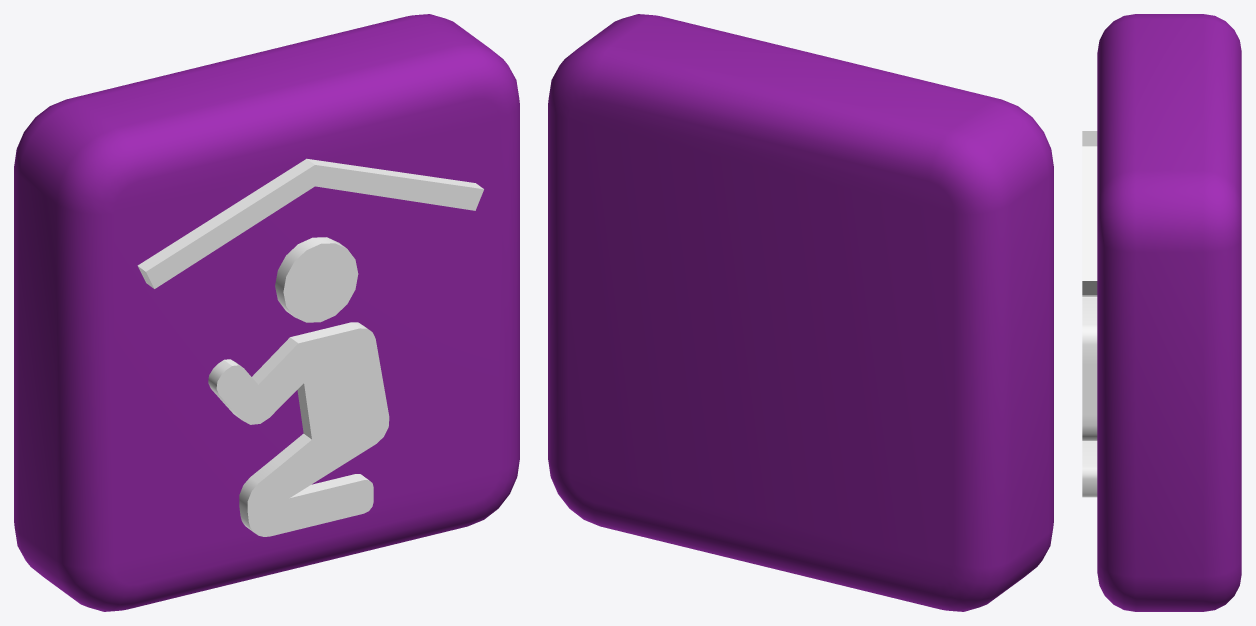
The model's file is place_of_worship.gltf.
The picture shows the model from 3 angles, left to right: view 1: azimuth 30°, elevation 25°; view 2: azimuth 150°, elevation 25°; view 3: azimuth 270°, elevation 25°; orthographic projection. The views are drawn at different scales.
Visible parts, largest first — view 1: Cube.6384; view 2: Cube.6384; view 3: Cube.6384.
Boxes of the visible parts, x1=… form: Cube.6384: x1=14, y1=14, x2=519, y2=611; Cube.6384: x1=548, y1=14, x2=1053, y2=611; Cube.6384: x1=1082, y1=14, x2=1241, y2=611.
Bounding box in the file's own units: 2.2 × 2.2 × 0.73.
Materials: 1 (1 with a texture image).
